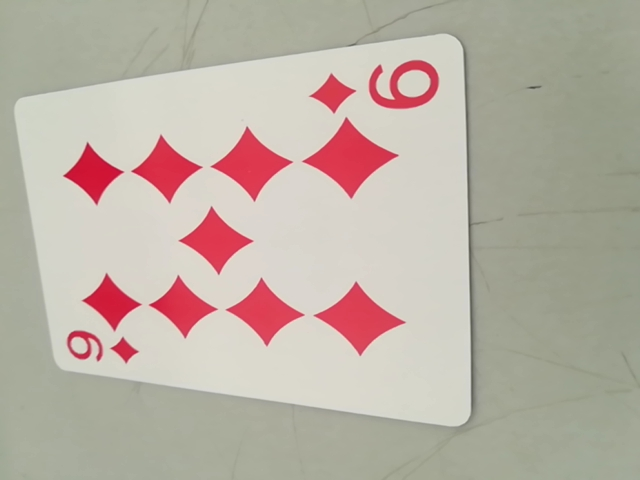fk 9: (311, 52, 446, 124), (57, 324, 145, 374)
